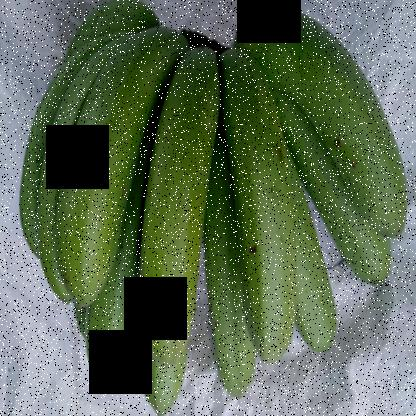freshunripe: (242, 6, 408, 238), (137, 33, 231, 379), (57, 30, 160, 316), (213, 55, 305, 371), (77, 283, 133, 406)
